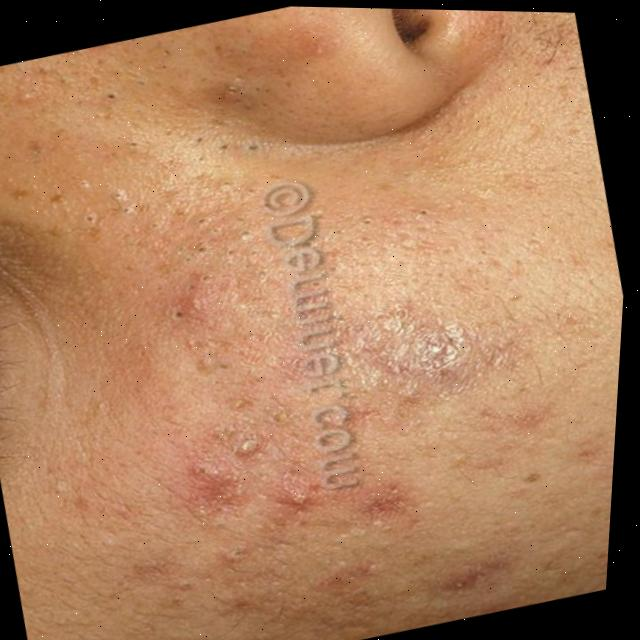Rosacea: (145, 235, 484, 592)
